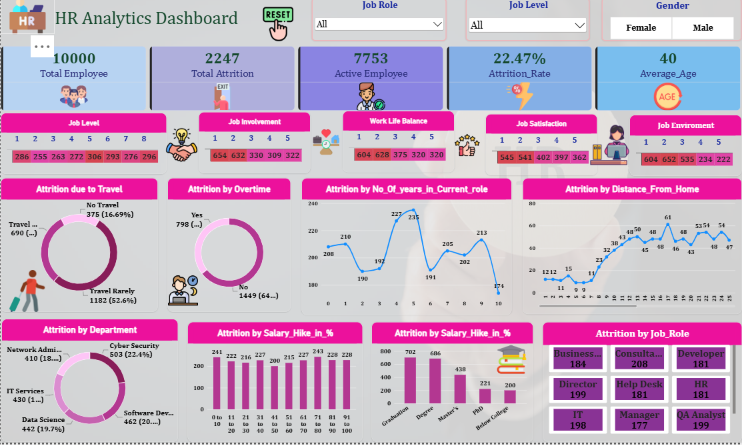

What the dashboard file says about the page in this screenshot:
{"tool":"powerbi","page":{"name":"Page 1","canvas":[2000,1200],"ordinal":0},"visuals":[{"type":"cardVisual","fields":{"Data":["CountNonNull(Employees.Employee_ID)","Employees.Attrition_YES","Employees.Attrition_NO","Employees.Attrition_Rate","Employees.Average_Age"]},"box":[0,129.5,1997,175.4],"z":0},{"type":"donutChart","title":"Attrition by Department","fields":{"Category":["Employees.Department"],"Y":["Employees.Attrition_YES"]},"box":[1.8,867,476,332],"z":1000},{"type":"advancedSlicerVisual","title":"Attrition by Job_Role","fields":{"Label":["Employees.Attrition_YES"],"Values":["Employees.Job_Role"]},"box":[1462,875.4,538,323],"z":2000},{"type":"lineChart","title":"Attrition by Distance_From_Home","fields":{"Category":["Employees.Distance_From_Home"],"Y":["Employees.Attrition_YES"]},"box":[1408.7,485.8,591,367],"z":3000},{"type":"donutChart","title":"Attrition by Overtime","fields":{"Category":["Employees.Overtime"],"Y":["Employees.Attrition_YES"]},"box":[450.7,485.8,331.9,361.6],"z":4000},{"type":"pivotTable","title":"Job Satisfaction","fields":{"Columns":["Employees.Job_Satisfaction"],"Values":["Employees.Attrition_YES"]},"box":[1309.8,313.7,301.2,165.2],"z":5000},{"type":"pivotTable","title":"Job Enviroment","fields":{"Columns":["Employees.Enviroment_Satisfaction"],"Values":["Employees.Attrition_YES"]},"box":[1697.5,316.8,302.3,164.6],"z":6000},{"type":"donutChart","title":"Attrition due to Travel","fields":{"Category":["Employees.Business_Travel"],"Y":["Employees.Attrition_YES"]},"box":[0,485.8,423.7,361.6],"z":7000},{"type":"lineChart","title":"Attrition by No_Of_years_in_Current_role","fields":{"Category":["Employees.No_Of_years_in_Current_role"],"Y":["Employees.Attrition_YES"]},"box":[812.3,485.8,566.7,369.7],"z":8000},{"type":"columnChart","title":"Attrition by Salary_Hike_in_%","fields":{"Category":["Employees.Salary_Hike_in_Precent (groups)"],"Y":["Employees.Attrition_YES"]},"box":[503.4,874.8,472,324],"z":9000},{"type":"columnChart","title":"Attrition by Salary_Hike_in_%","fields":{"Category":["Employees.Education"],"Y":["Employees.Attrition_YES"]},"box":[1001.1,875.1,436,324],"z":10000},{"type":"pivotTable","title":"Work Life Balance","fields":{"Columns":["Employees.Work_Life_Balance"],"Values":["Employees.Attrition_YES"]},"box":[922.2,305,301.2,165.2],"z":11000},{"type":"pivotTable","title":"Job Involvement","fields":{"Columns":["Employees.Job_Involvement"],"Values":["Employees.Attrition_YES"]},"box":[534.5,308.1,301.2,165.2],"z":12000},{"type":"pivotTable","title":"Job Level","fields":{"Columns":["Employees.Job_Level"],"Values":["Employees.Attrition_YES"]},"box":[0,311.2,448,164.6],"z":13000},{"type":"textbox","box":[145.7,24.3,518.2,72.9],"z":14000},{"type":"image","box":[0,0,145.7,97.2],"z":15000},{"type":"image","box":[1589.5,323.8,107.9,145.7],"z":16000},{"type":"image","box":[1225.2,323.8,67.5,145.7],"z":17000},{"type":"image","box":[839.3,310.4,78.3,156.5],"z":18000},{"type":"image","box":[442.6,337.3,91.8,118.7],"z":19000},{"type":"image","box":[10.8,734.1,121.4,113.3],"z":20000},{"type":"image","box":[450.7,734.1,83.7,110.6],"z":21000},{"type":"image","box":[1325.1,936.5,107.9,78.3],"z":22000},{"type":"slicer","title":"Gender","fields":{"Values":["Employees.Gender"]},"box":[1621.9,0,377.8,116],"z":23000},{"type":"slicer","title":"Job Level","fields":{"Values":["Employees.Job_Level"]},"box":[1254.9,0,334.6,116],"z":23001},{"type":"slicer","title":"Job Role","fields":{"Values":["Employees.Job_Role"]},"box":[839.3,0,364.3,116],"z":23002},{"type":"image","box":[658.5,24.3,180.8,91.8],"z":23003}]}

Visuals, with their boxes in screenshot pixels (x1, y1, x2, y2), scaled from the page's 2000x1200 canvas onto the 742x445 screenshot:
cardVisual - CountNonNull(Employees.Employee_ID) x Employees.Attrition_YES: [left=0, top=48, right=741, bottom=113]
"Attrition by Department" donutChart: [left=1, top=322, right=177, bottom=444]
"Attrition by Job_Role" advancedSlicerVisual: [left=542, top=325, right=741, bottom=444]
"Attrition by Distance_From_Home" lineChart: [left=523, top=180, right=741, bottom=316]
"Attrition by Overtime" donutChart: [left=167, top=180, right=290, bottom=314]
"Job Satisfaction" pivotTable: [left=486, top=116, right=598, bottom=178]
"Job Enviroment" pivotTable: [left=630, top=117, right=741, bottom=179]
"Attrition due to Travel" donutChart: [left=0, top=180, right=157, bottom=314]
"Attrition by No_Of_years_in_Current_role" lineChart: [left=301, top=180, right=512, bottom=317]
"Attrition by Salary_Hike_in_%" columnChart: [left=187, top=324, right=362, bottom=444]
"Attrition by Salary_Hike_in_%" columnChart: [left=371, top=325, right=533, bottom=444]
"Work Life Balance" pivotTable: [left=342, top=113, right=454, bottom=174]
"Job Involvement" pivotTable: [left=198, top=114, right=310, bottom=176]
"Job Level" pivotTable: [left=0, top=115, right=166, bottom=176]
textbox: [left=54, top=9, right=246, bottom=36]
image: [left=0, top=0, right=54, bottom=36]
image: [left=590, top=120, right=630, bottom=174]
image: [left=455, top=120, right=480, bottom=174]
image: [left=311, top=115, right=340, bottom=173]
image: [left=164, top=125, right=198, bottom=169]
image: [left=4, top=272, right=49, bottom=314]
image: [left=167, top=272, right=198, bottom=313]
image: [left=492, top=347, right=532, bottom=376]
"Gender" slicer: [left=602, top=0, right=741, bottom=43]
"Job Level" slicer: [left=466, top=0, right=590, bottom=43]
"Job Role" slicer: [left=311, top=0, right=447, bottom=43]
image: [left=244, top=9, right=311, bottom=43]
